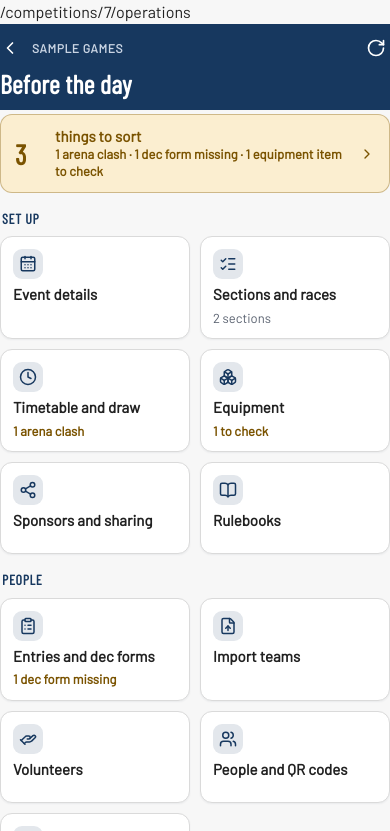
OperationsPage › opens the to-sort rows in place, blocking clashes first
This screenshot has width=390, height=831.
expect the text "Pairs overlaps Open" is not shown: met
Click the button "things to sort" at [195, 154], box [0,114,389,193]
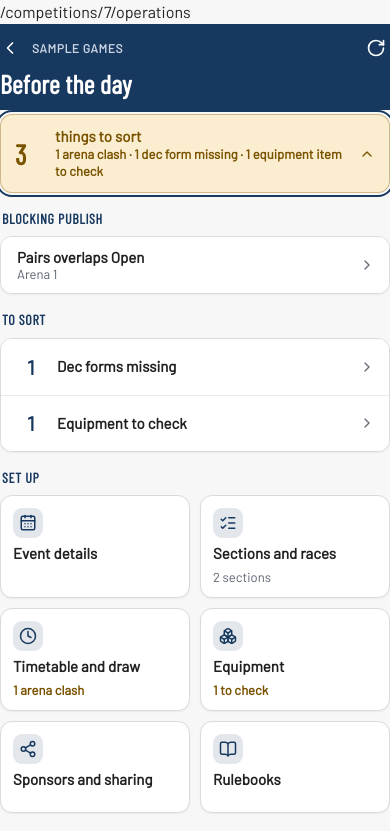
expect the button "things to sort" is expanded: met
expect the heading "Blocking publish" is shown: met, box [2,210,103,227]
expect the text "Pairs overlaps Open" is shown: met, box [17,248,144,266]
Click the button "things to sort" at [195, 154], box [0,114,389,193]
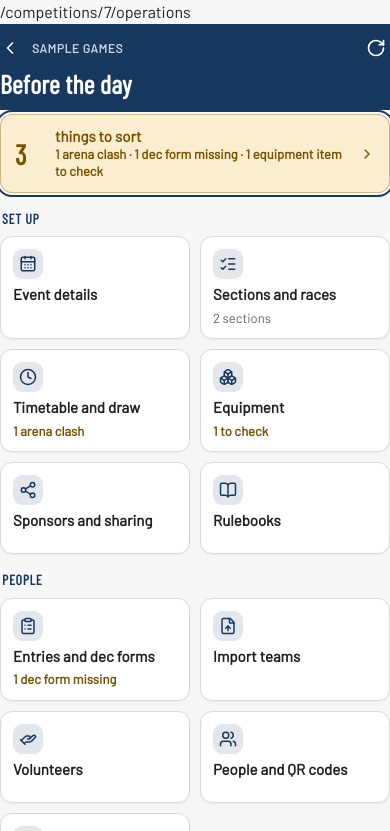
expect the link "Pairs overlaps Open" is gone: met
